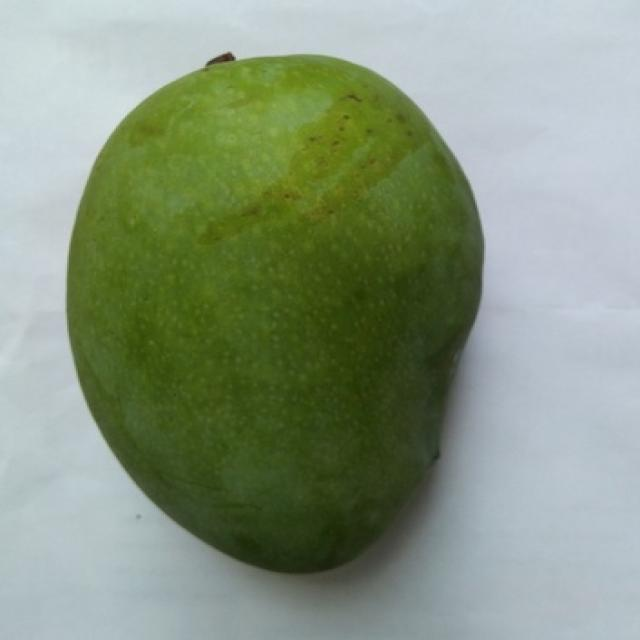Mango: (67, 57, 482, 572)
